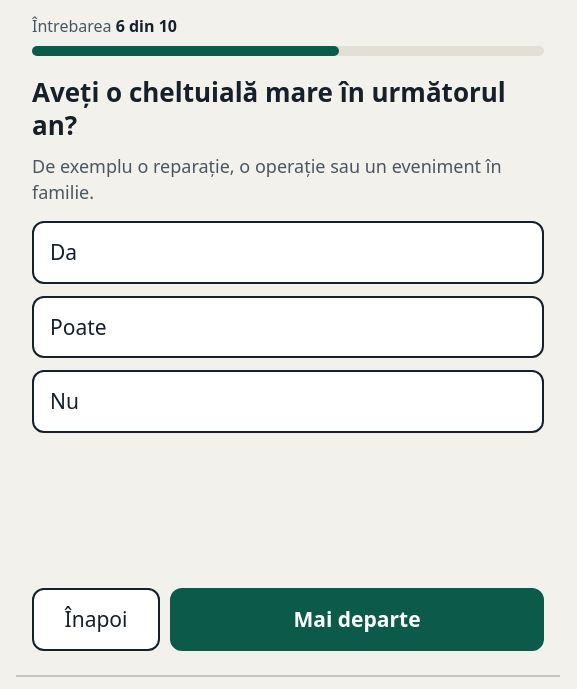
lista de locuri › totalul orientativ › o suma nespusa: niciun total, nici partial
Click the button "Înapoi".
click(96, 620)  # box left=32, top=588, right=160, bottom=651
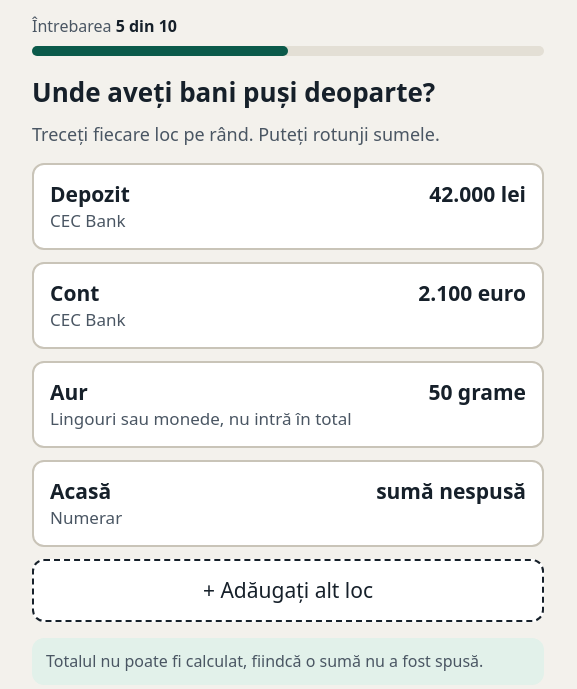
Expected: the text "Totalul nu poate fi calculat" is shown, left=46, top=650, right=483, bottom=672
